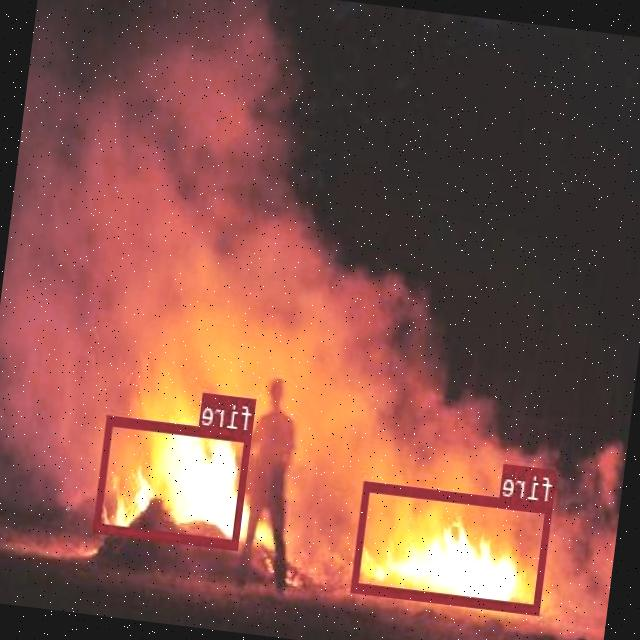fire: (352, 481, 553, 614), (95, 415, 252, 548)
